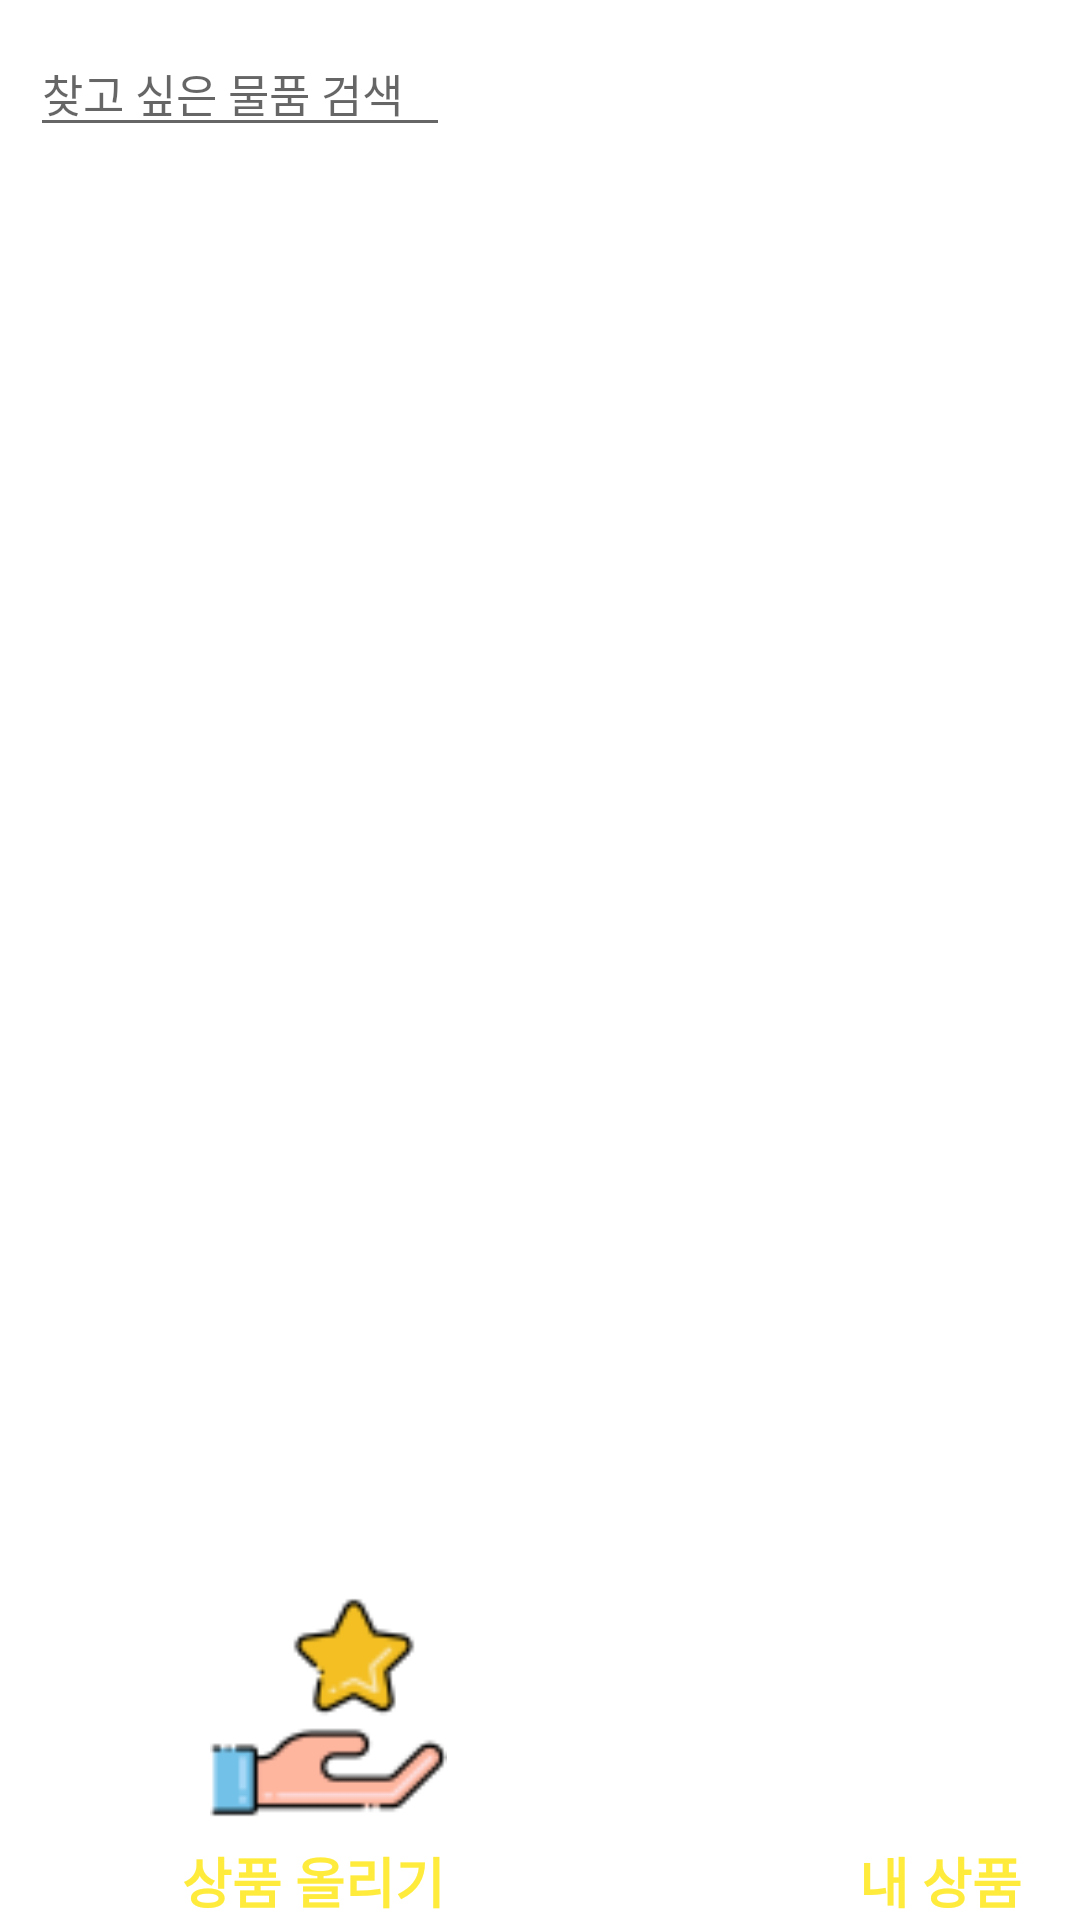

Icons on this 1080x1920 Android screen, each with its box as box(x1, y1, x2, y2):
trade: box(210, 1599, 447, 1816)
